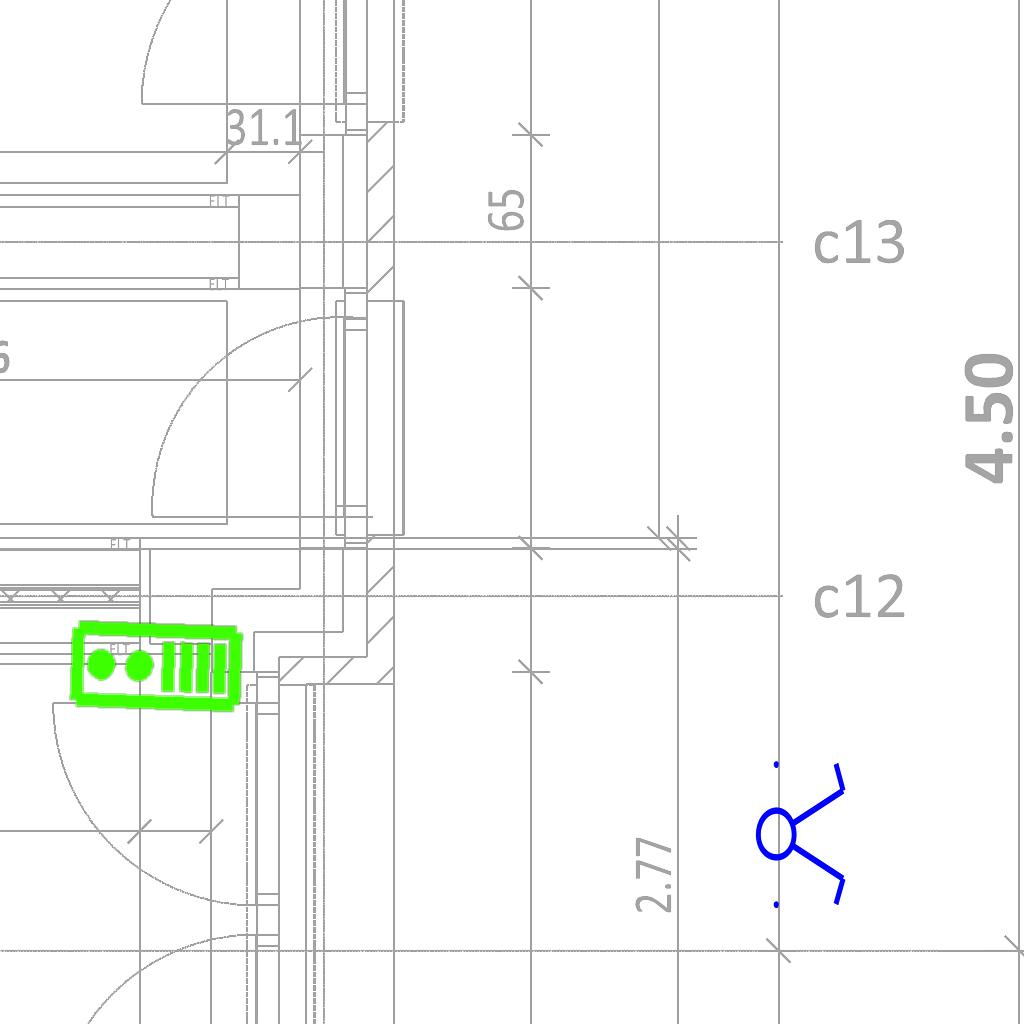Gegensprechanlage_mit_Video: (65, 617, 246, 719)
Serienschalter: (754, 749, 850, 917)
